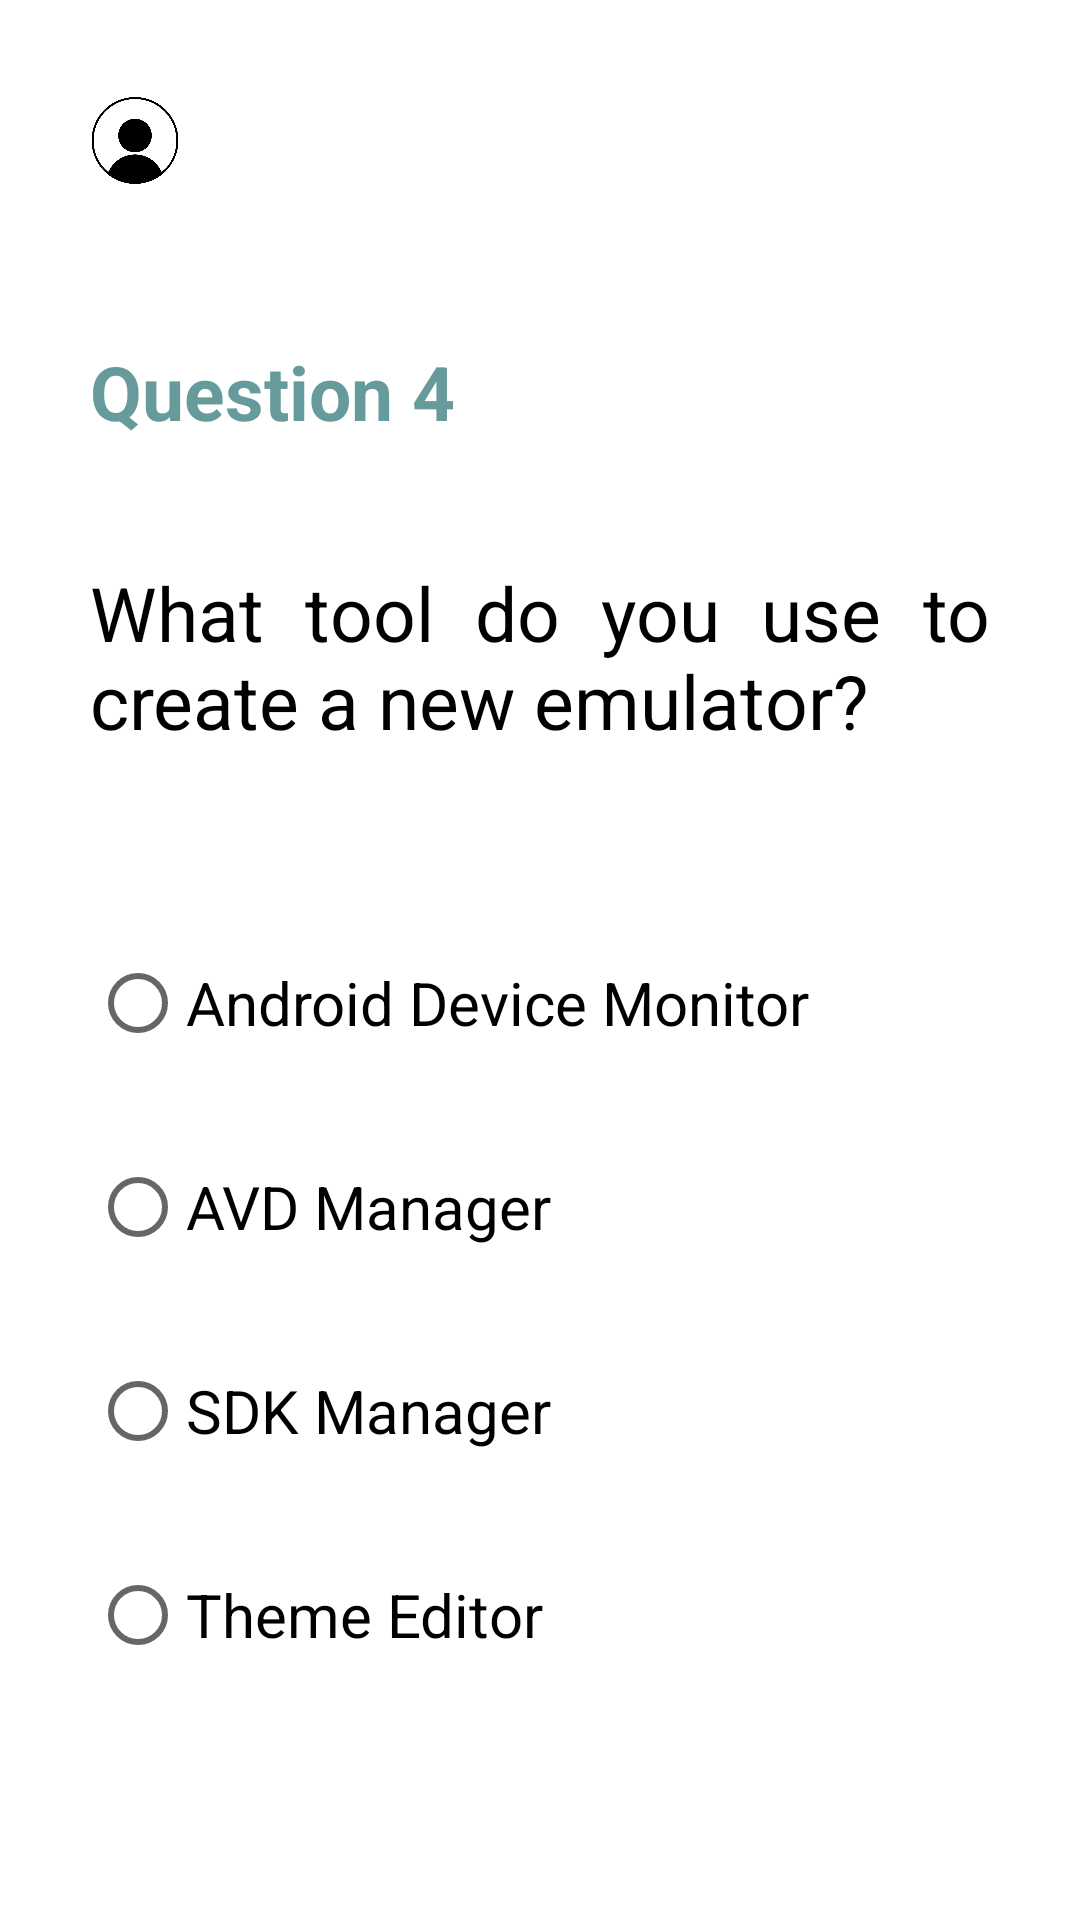

Screen size 1080 x 1920. Icon name, then its center in pixels as [x,y]:
profil: [135,140]
